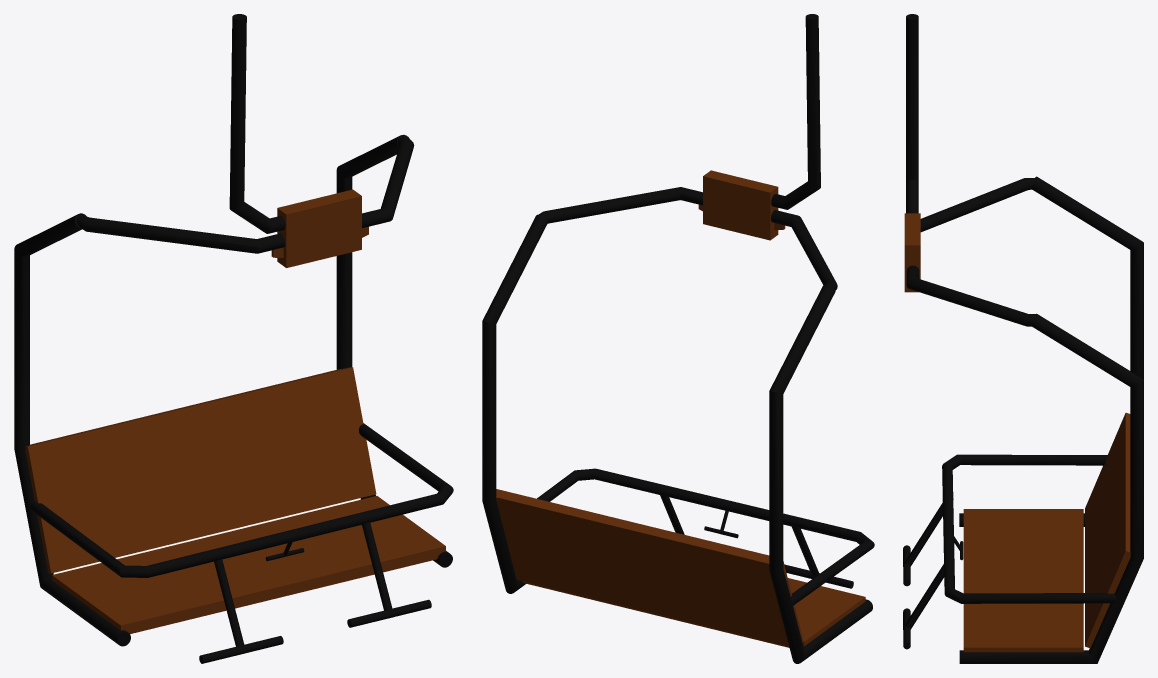
File: Chairlift_1379.obj
3 renders of one model, left to right at view 1: azimuth 30°, elevation 25°; view 2: azimuth 150°, elevation 25°; view 3: azimuth 270°, elevation 25°, orthographic. The views are drawn at different scales.
Parts seen in each view (by area): view 1: Box001; view 2: Box001; view 3: Box001.
Part boxes in pixels (<box>): Box001: <box>14,14,453,663</box>; Box001: <box>482,14,874,663</box>; Box001: <box>903,14,1143,663</box>.
Size of the model in its own units: 45.45 by 81.92 by 32.32.
